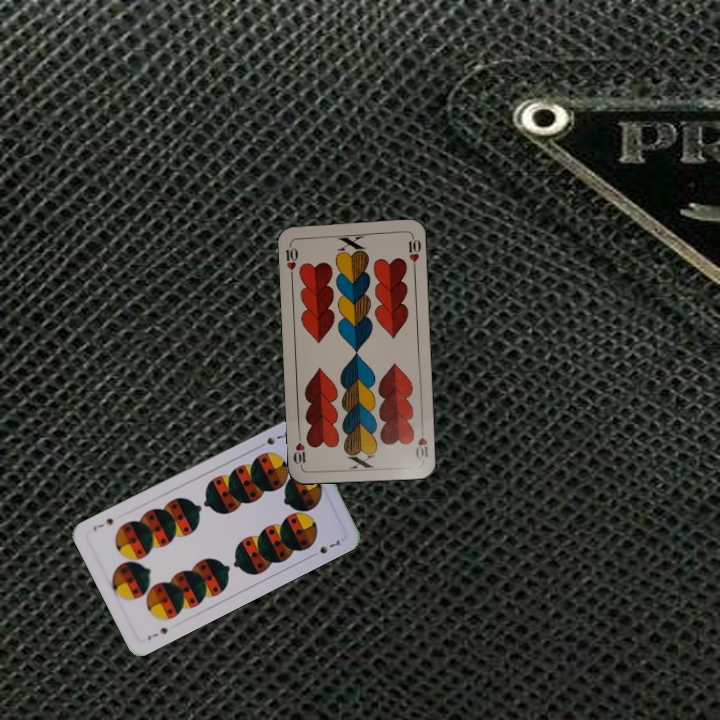H10: (411, 422, 431, 462), (281, 239, 300, 280)
S7: (254, 428, 290, 451), (143, 623, 170, 643)
